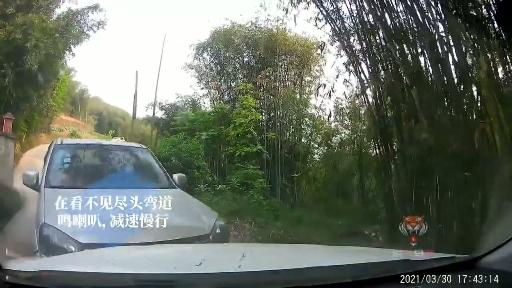Accident: (37, 132, 246, 260)
